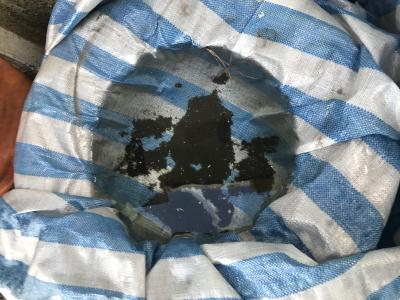plastic_bag: (14, 1, 400, 298)
